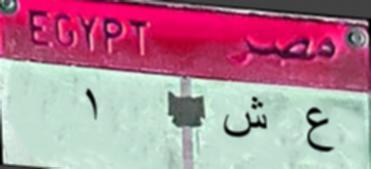1: (80, 84, 104, 126)
ain: (302, 98, 336, 164)
sheen: (220, 94, 272, 146)
